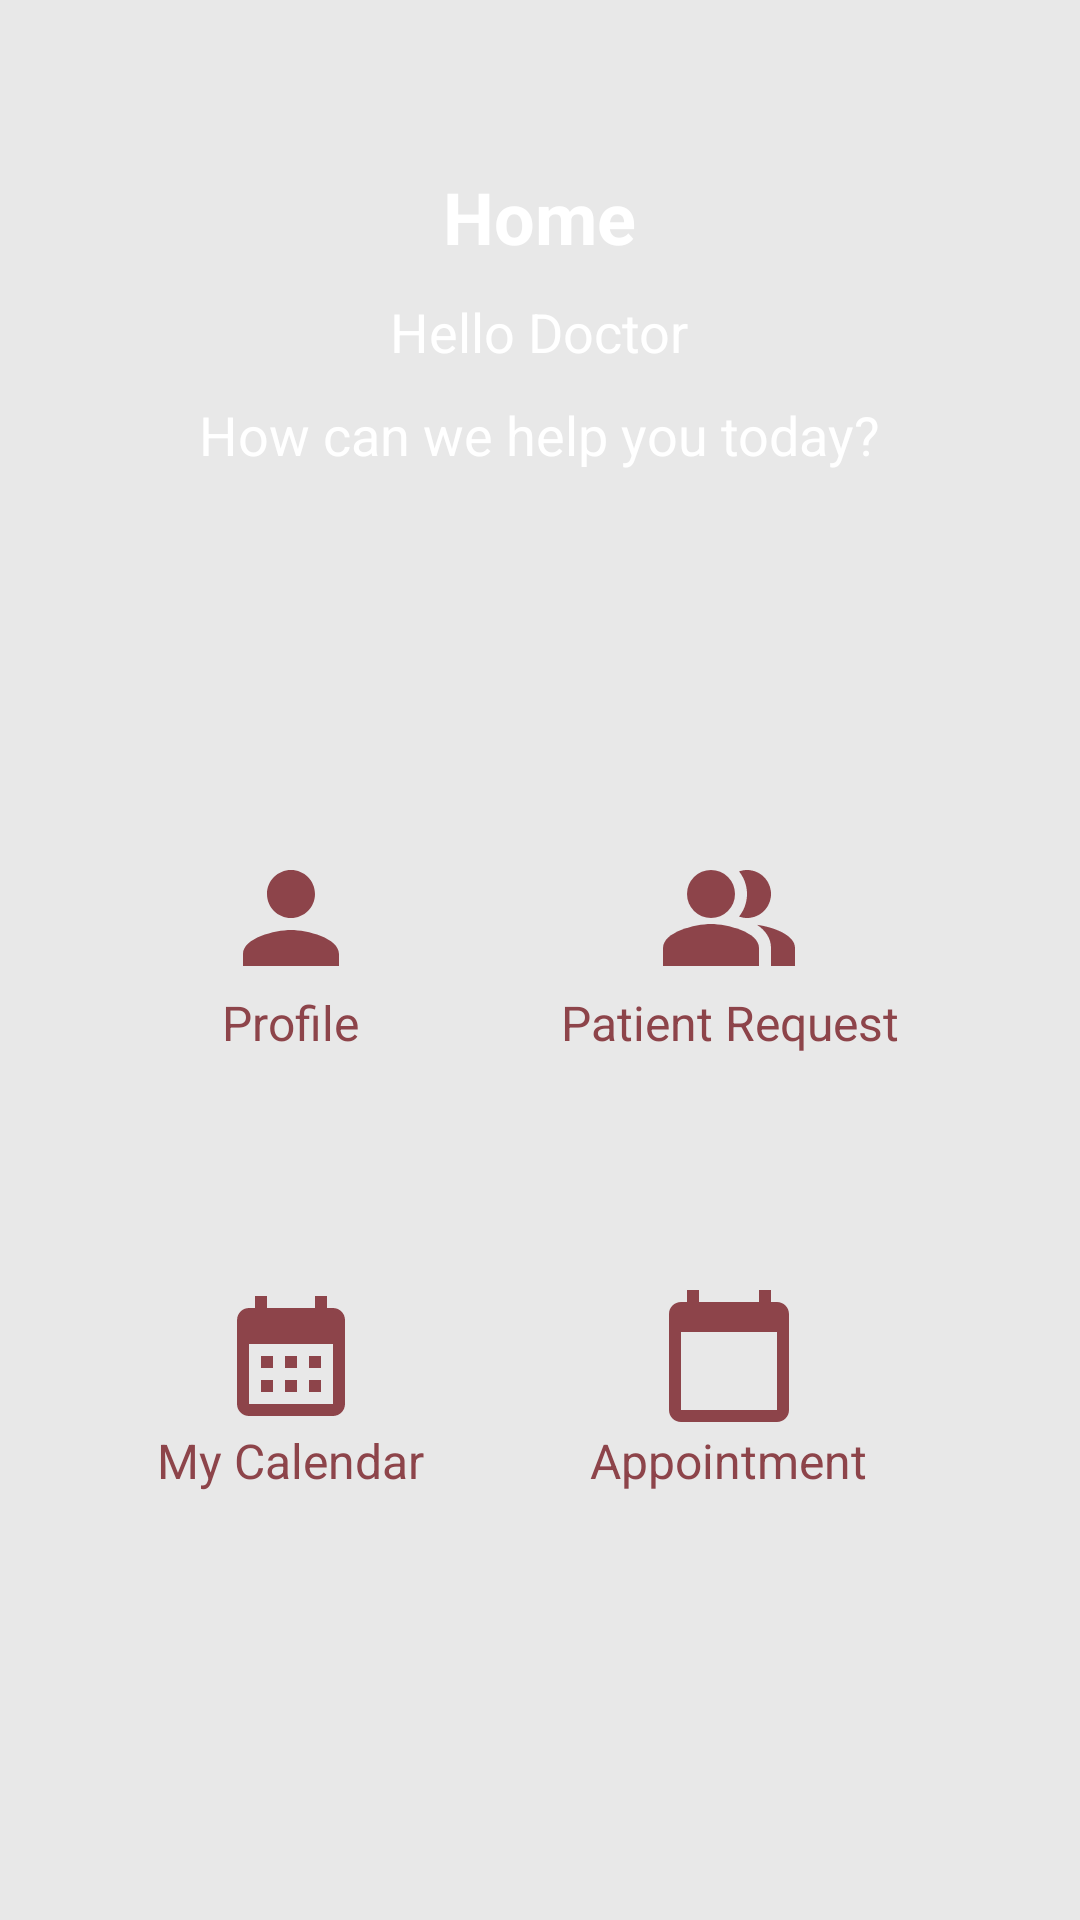

Where to tap for icons on this 1080px×1920px app screen, as point (x, y):
calendar today: point (729, 1356)
people: point (729, 918)
person: point (291, 918)
